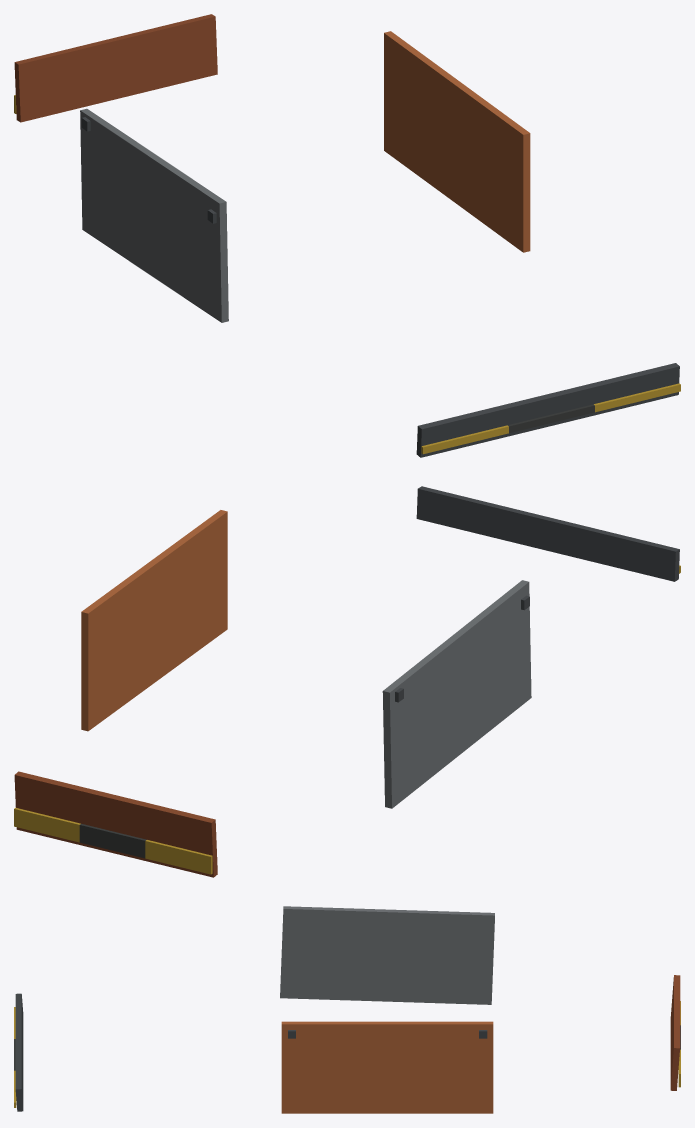
The model's file is upg_armor_plates_t3.glb.
3 renders of one model, top to bottom at view 1: azimuth 30°, elevation 25°; view 2: azimuth 150°, elevation 25°; view 3: azimuth 270°, elevation 25°, orthographic. The views are drawn at different scales.
Parts seen in each view (by area): view 1: armor_plates; view 2: armor_plates; view 3: armor_plates.
Boxes of the visible parts, x1,y1,x2,y2 form: armor_plates: (14, 14, 680, 457); armor_plates: (14, 486, 680, 877); armor_plates: (14, 906, 680, 1113).
Bounding box in the file's own units: 1.35 × 0.5387 × 3.24.
